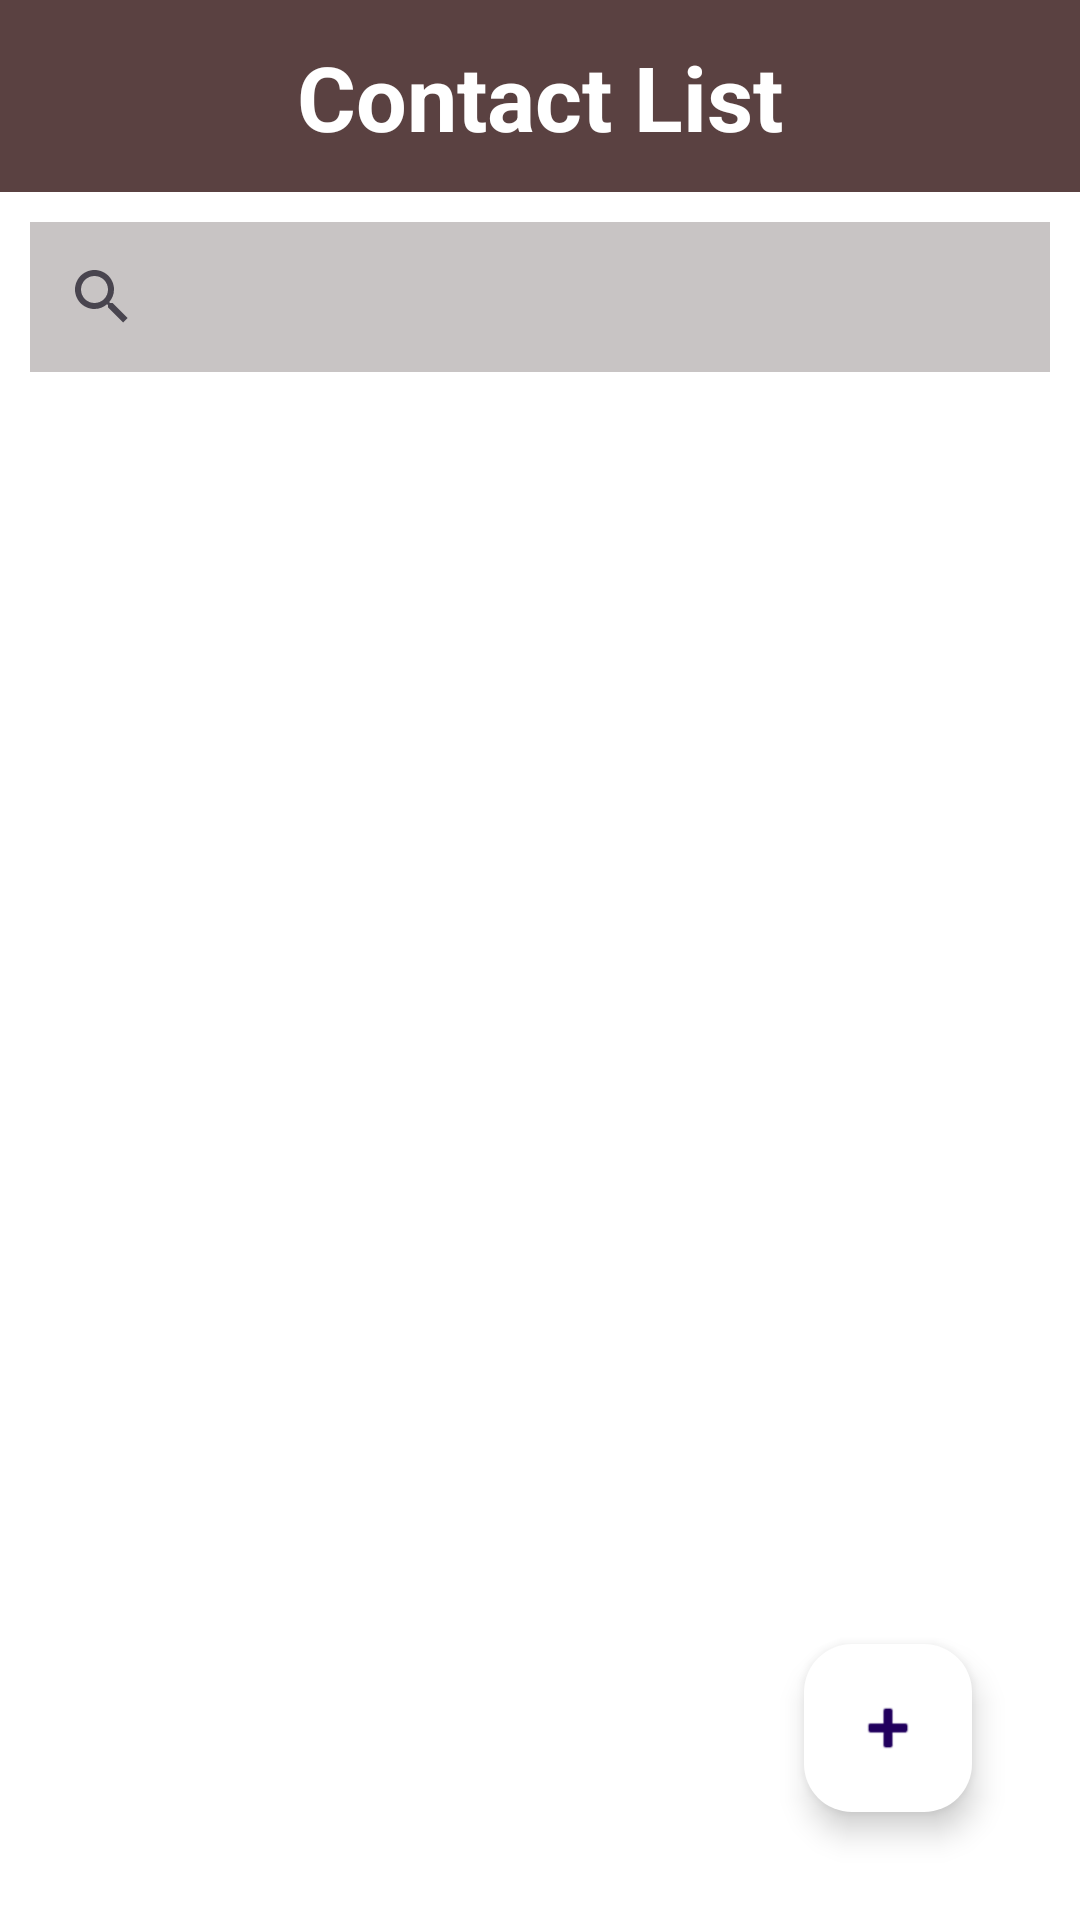

Named icons in this screenshot (1080x1920) and their bounding boxes, (x1, y1, x2, y2):
add: (867, 1708, 909, 1748)
